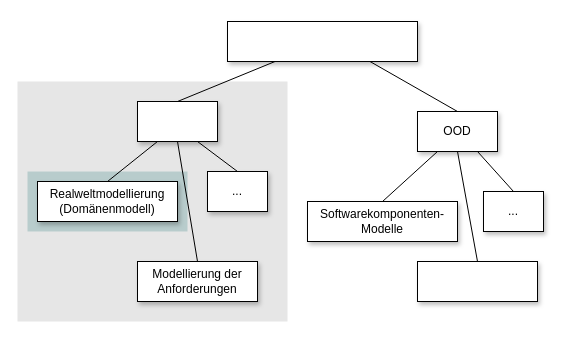
Image size: 567x339. Some labels were removed from this diagram. The shapes that lost their labels are listed below. From the top down, each one's centre as x and y in pixels, then its label:
(323,42): Objektorientierte Modellierung
(178,122): OOA
(478,282): Modellierung von Softwareobjekten
